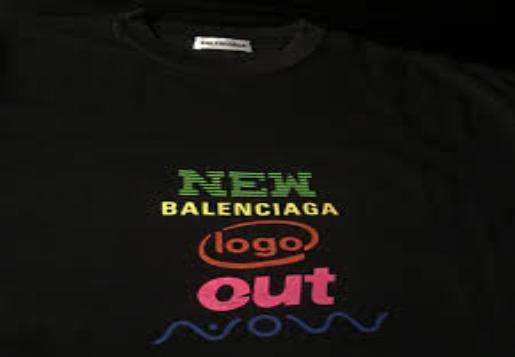BALENCIAGA: (157, 201, 336, 215)
